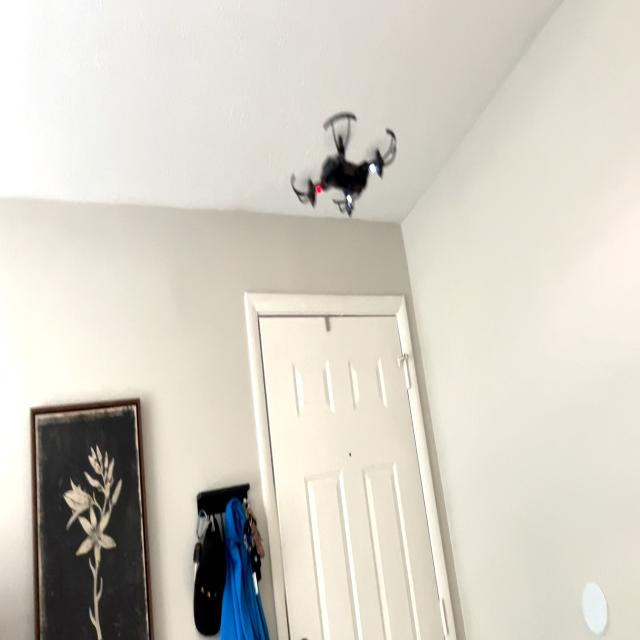drone: (282, 94, 401, 235)
